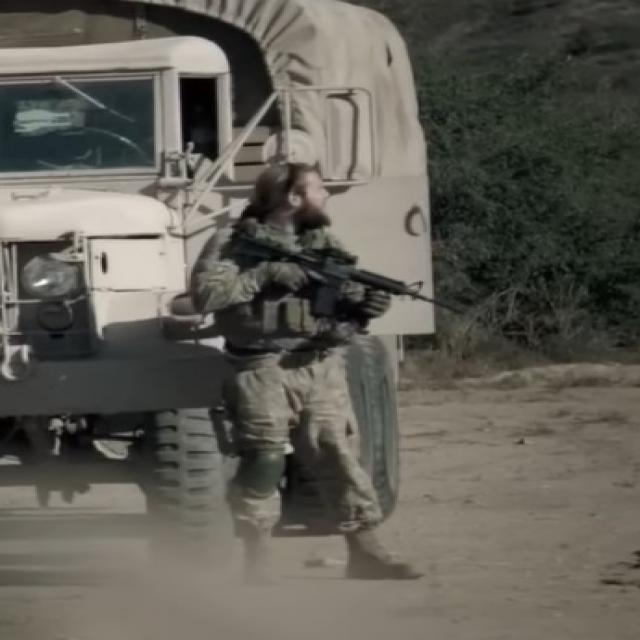m16: (206, 183, 515, 353)
